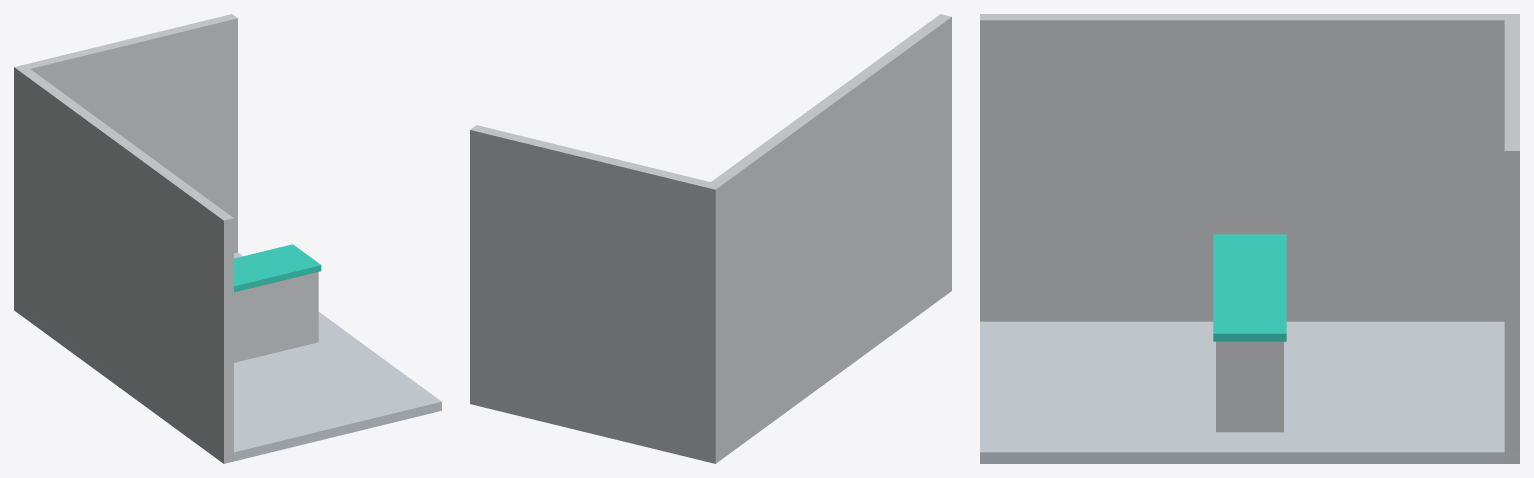
3 views of the same model, side by side, from view 1: azimuth 30°, elevation 25°; view 2: azimuth 150°, elevation 25°; view 3: azimuth 270°, elevation 25° (orthographic). The views are drawn at different scales.
Visible parts, largest first — view 1: Exhibition Booth Concept; view 2: Exhibition Booth Concept; view 3: Exhibition Booth Concept.
Part boxes in pixels (x1,y1,x2,y2): Exhibition Booth Concept: [14, 14, 441, 463]; Exhibition Booth Concept: [470, 14, 951, 463]; Exhibition Booth Concept: [980, 14, 1519, 463].
Size of the model in its own units: 3 by 3.2 by 5.
